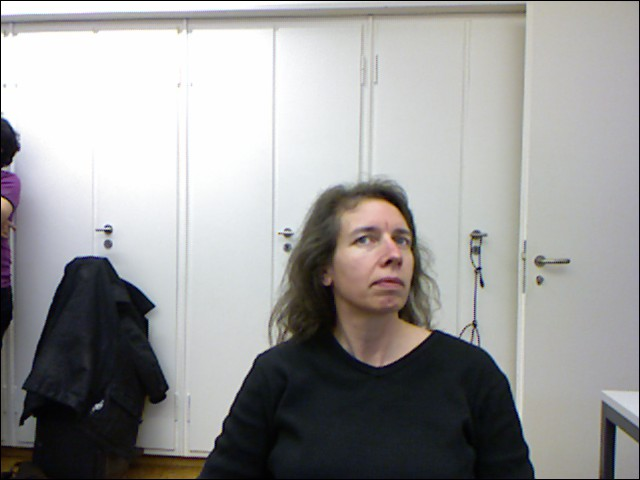deflection: (275, 192, 484, 480)
